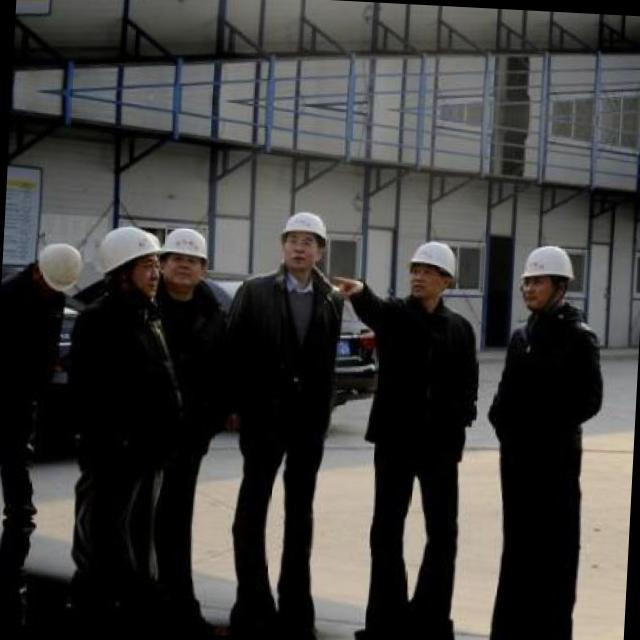helmet: (98, 223, 166, 300), (514, 237, 580, 316), (274, 204, 332, 278), (402, 233, 462, 304), (155, 222, 211, 292), (36, 240, 82, 299)
